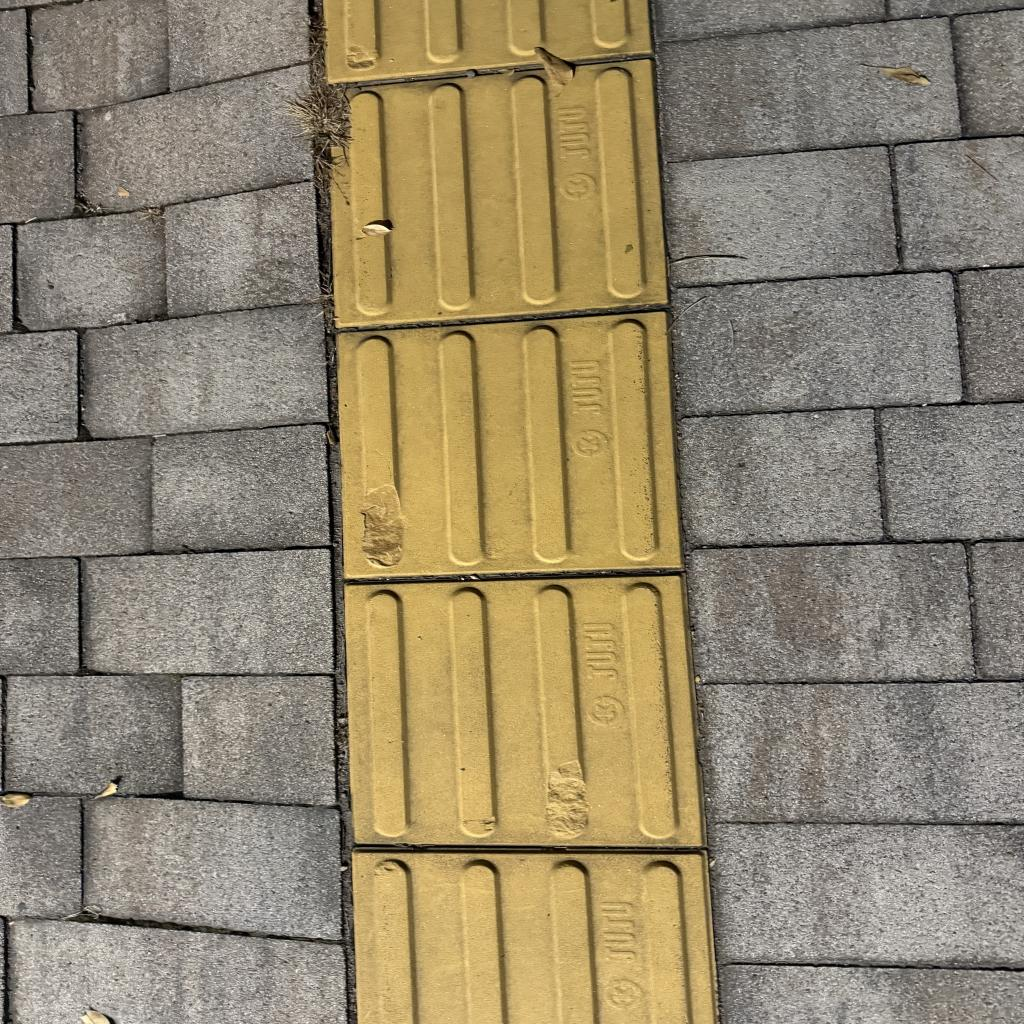Straight block normal: (320, 62, 669, 325)
